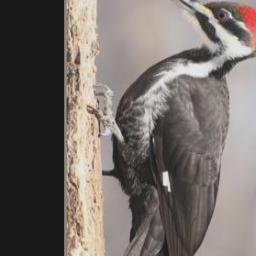Woodpecker: (92, 0, 256, 255)
